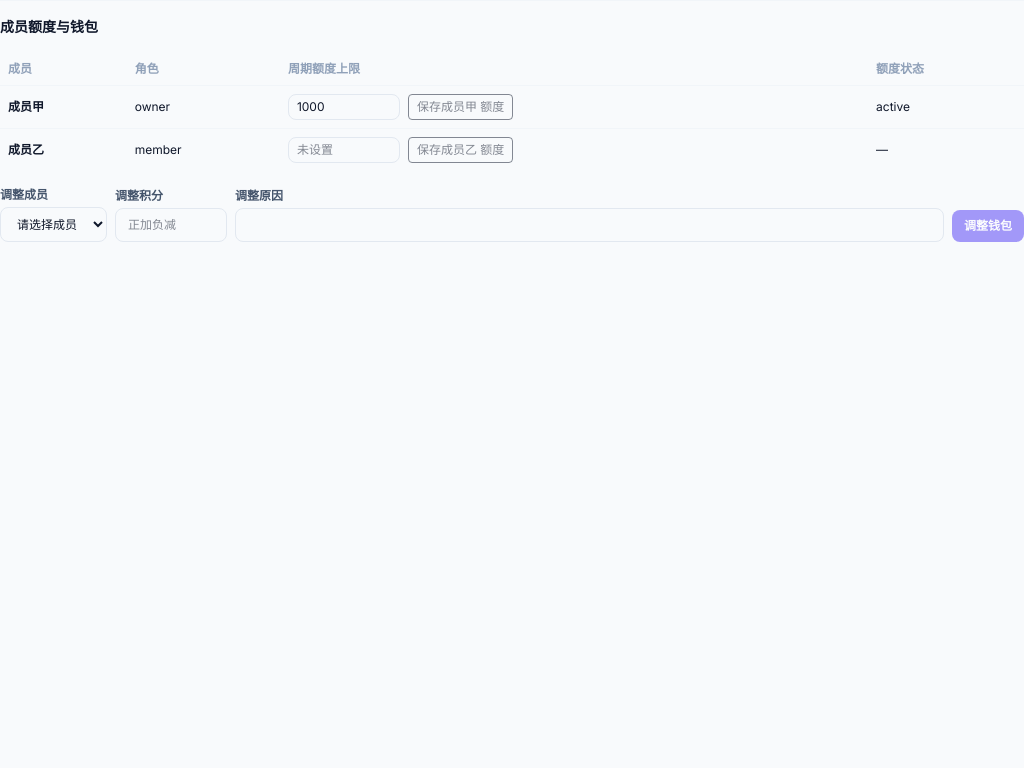
TenantWalletQuota › 周期额度：保存失败展示错误
Type "300" into the number field named "成员乙 周期额度上限" at (344, 150), box [288, 137, 400, 163]
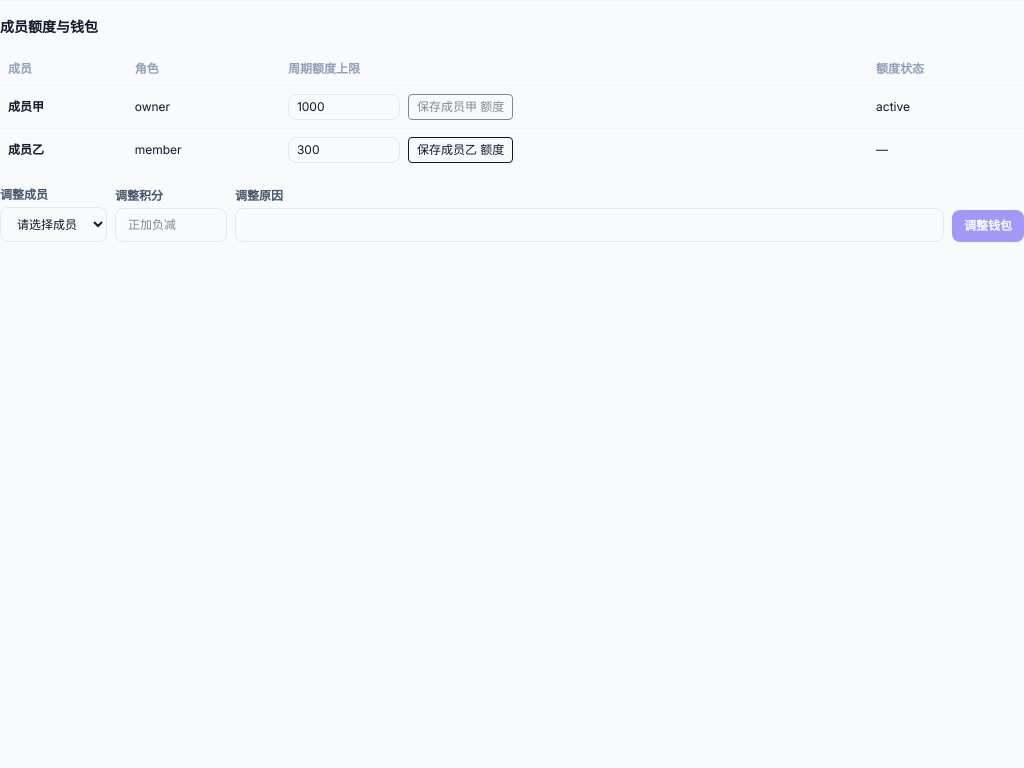
Click the button "保存成员乙 额度" at (461, 150), box [408, 137, 513, 163]
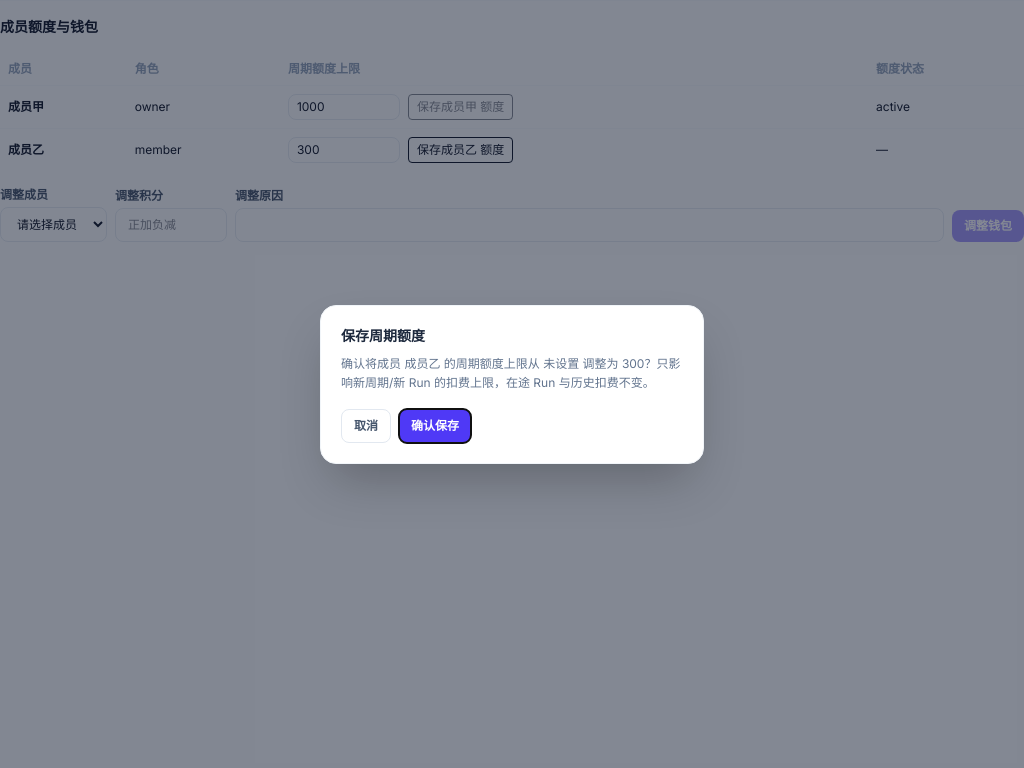
Click the button "确认保存" at (435, 426), box [399, 408, 471, 442]
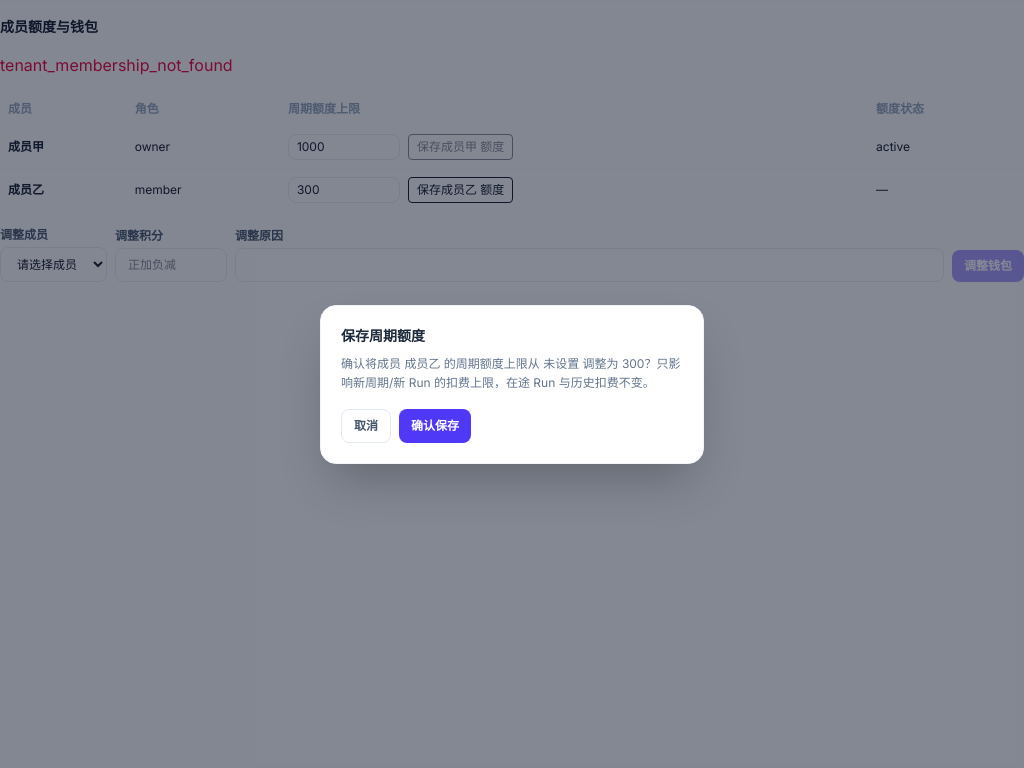
Expected: the message reads "tenant_membership_not_found", [0, 55, 233, 75]
